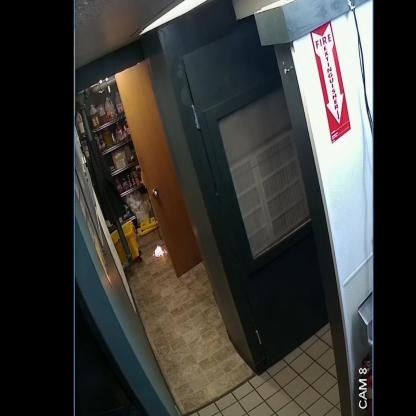fire: (153, 246, 167, 258)
